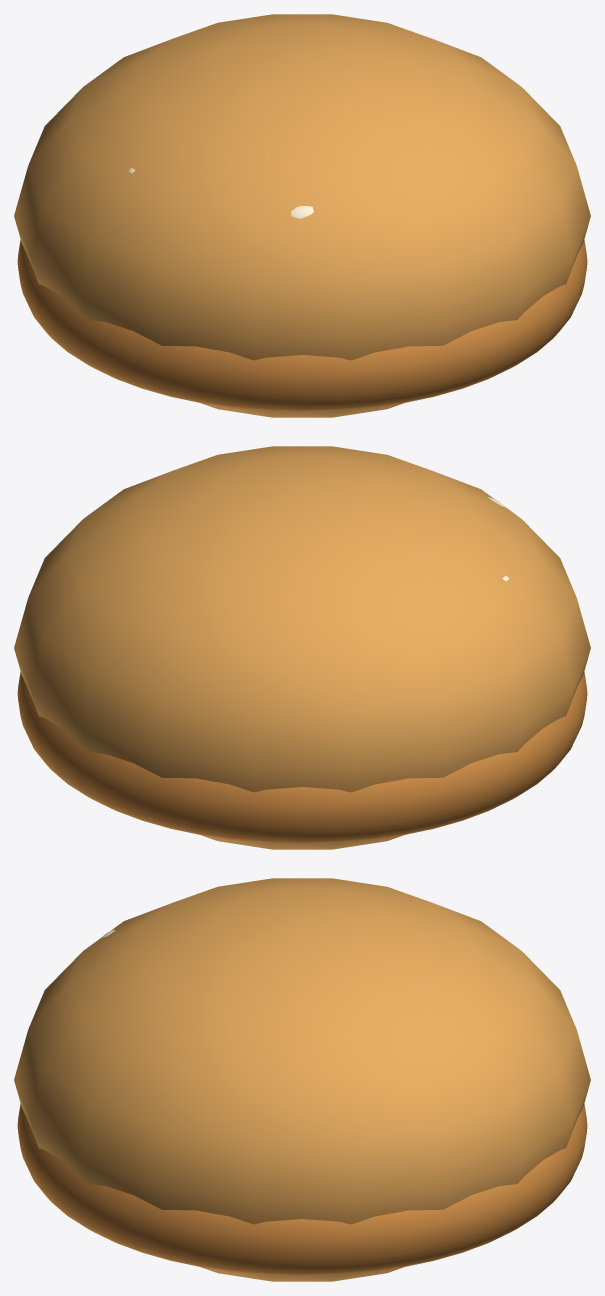
Rendered from food_bun.glb.
The picture shows the model from 3 angles, top to bottom: view 1: azimuth 30°, elevation 25°; view 2: azimuth 150°, elevation 25°; view 3: azimuth 270°, elevation 25°; orthographic projection.
Visible parts, largest first — view 1: bun; view 2: bun; view 3: bun.
Part boxes in pixels (bbox=[...]): bun: bbox=[14, 14, 590, 417]; bun: bbox=[14, 446, 590, 849]; bun: bbox=[14, 878, 590, 1281].
Bounding box in the file's own units: 0.3951 × 0.248 × 0.4.
